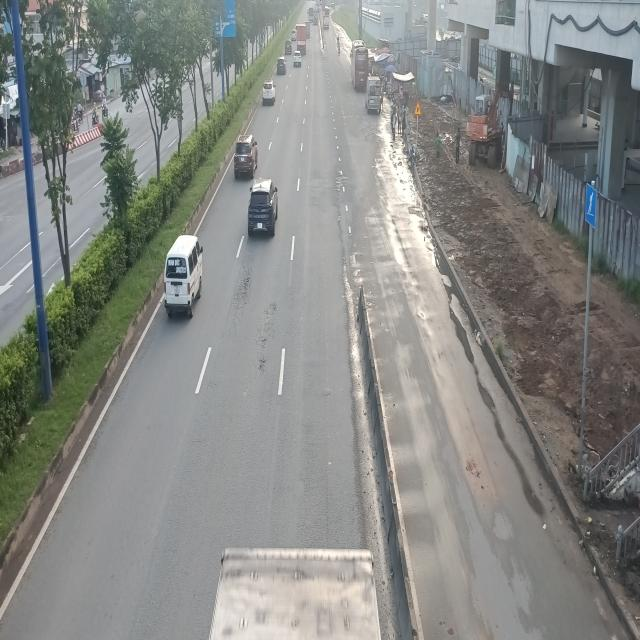car: (249, 180, 281, 238), (234, 136, 260, 180)
coach: (351, 39, 370, 92)
van: (162, 235, 203, 317), (365, 77, 381, 113)
